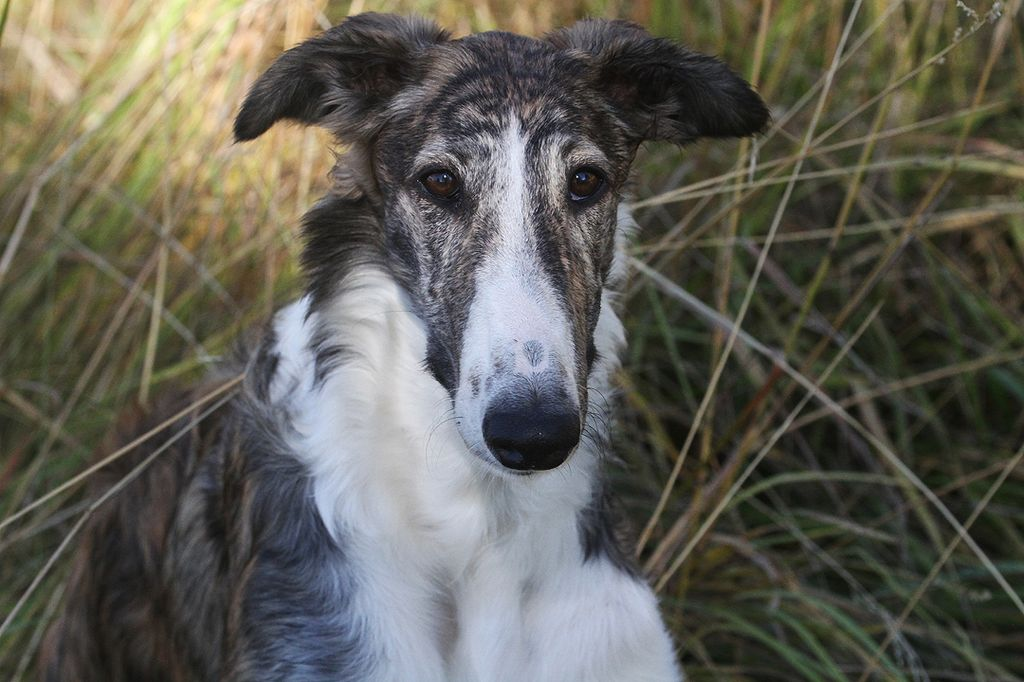borzoi: (71, 15, 827, 676)
